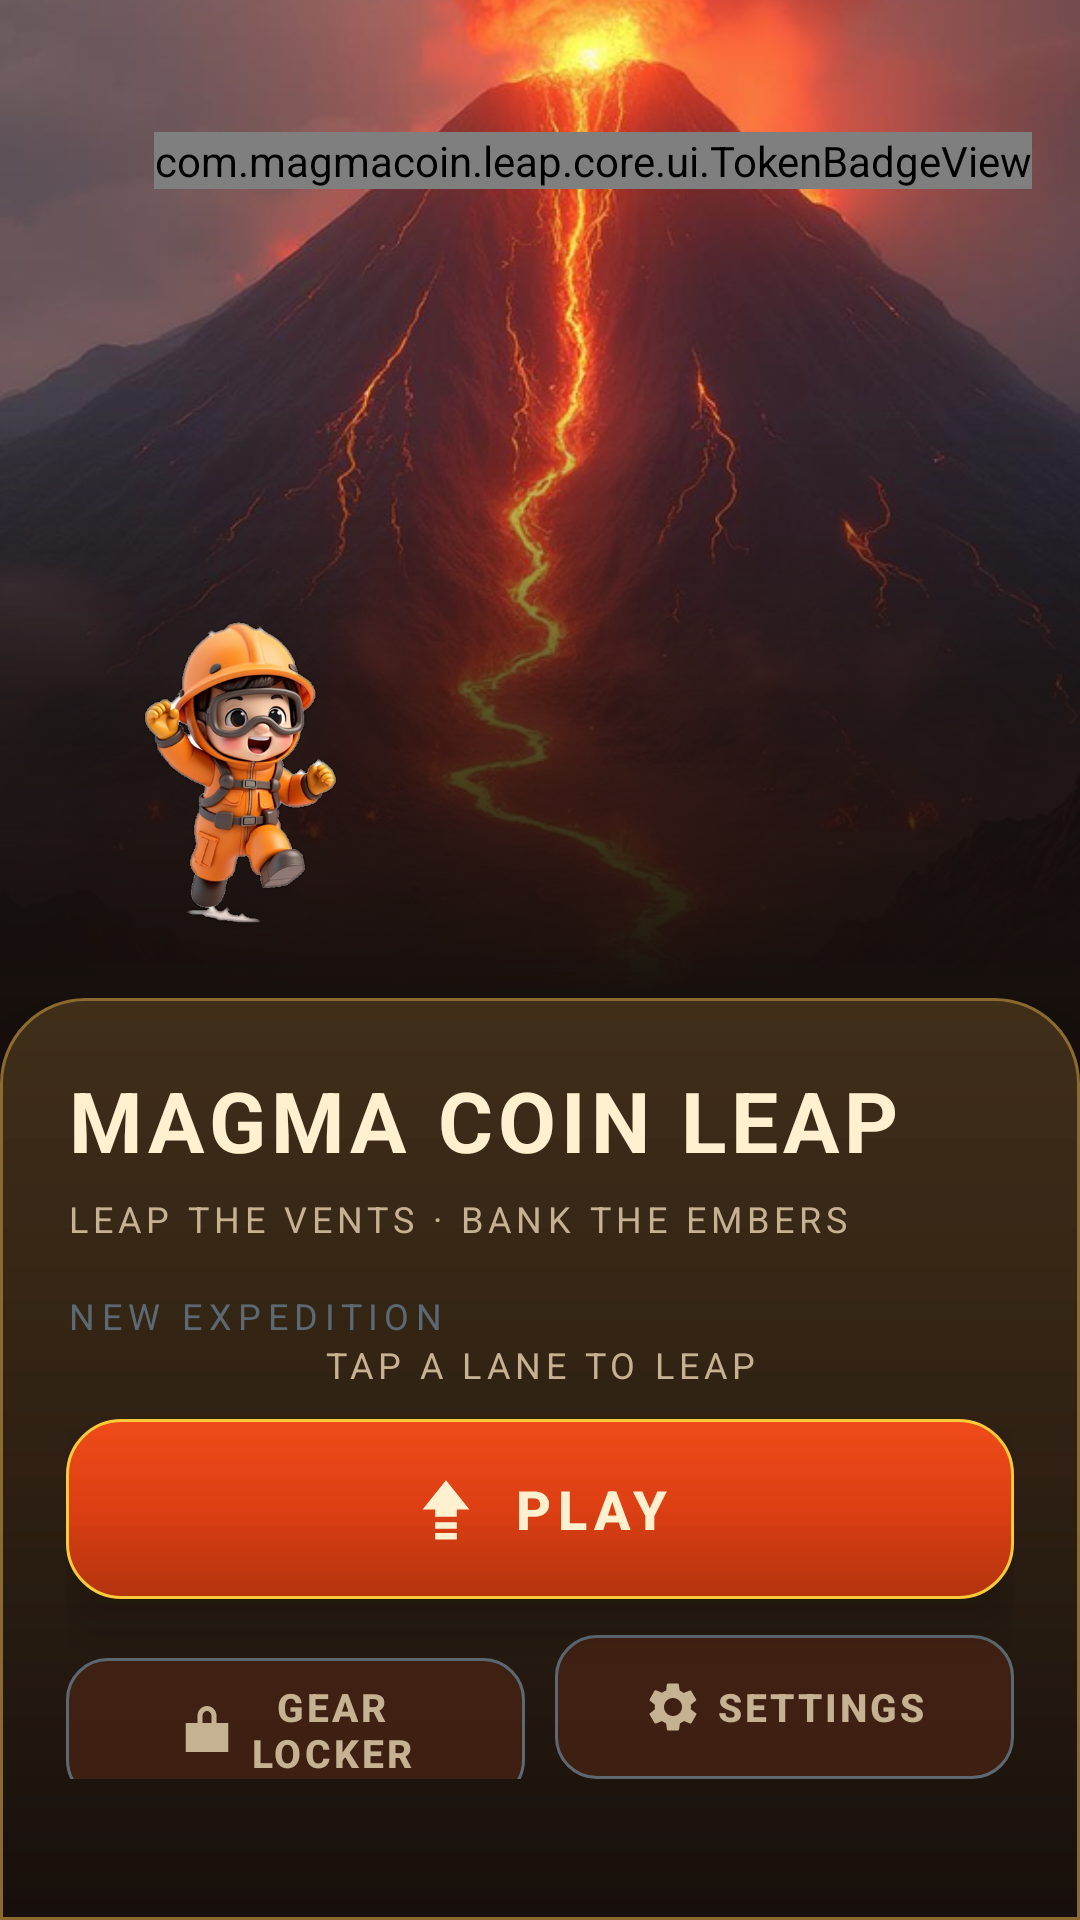

Screen size 1080w x 1920h. Icon name, then its center in pixels as point (x, y):
Volcano explorer: point (238, 769)
